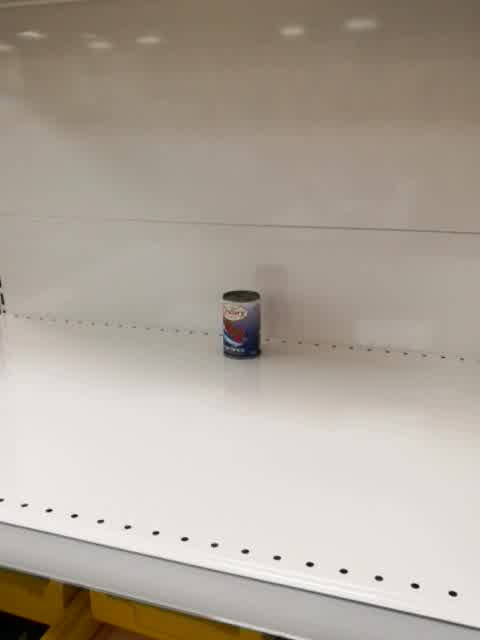sardine: (221, 289, 261, 361)
